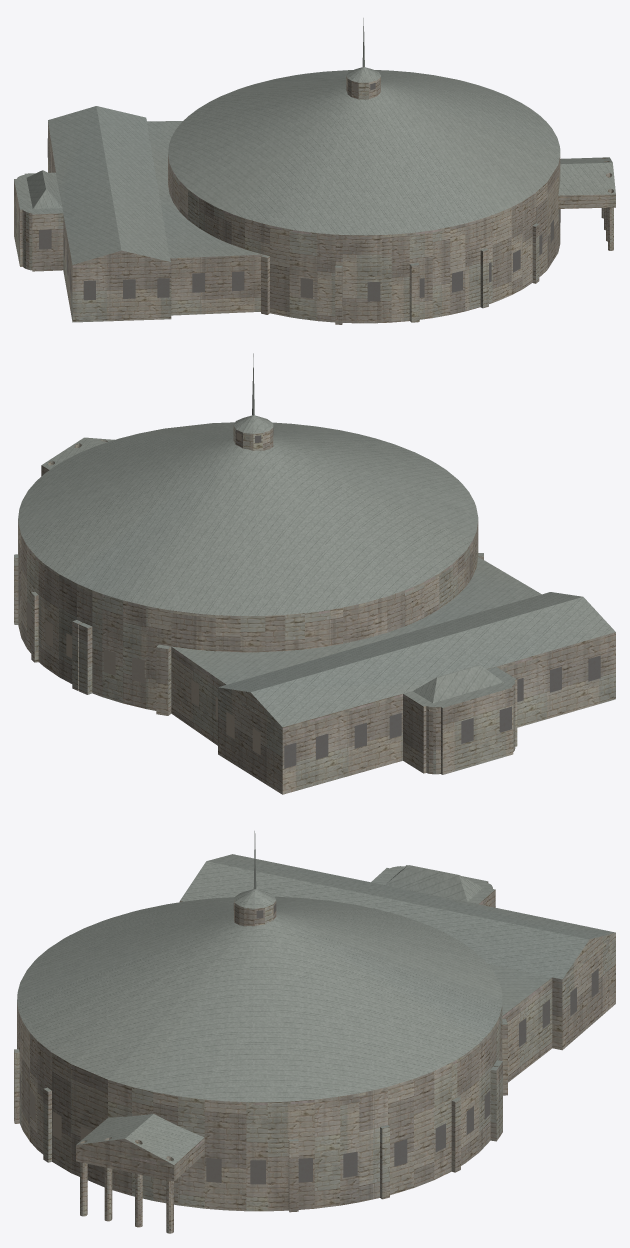
File: theatre-du-rond-point.glb
3 renders of one model, top to bottom at view 1: azimuth 30°, elevation 25°; view 2: azimuth 150°, elevation 25°; view 3: azimuth 270°, elevation 25°, orthographic. The views are drawn at different scales.
Visible parts, largest first — view 1: roof, stone, window, trim; view 2: roof, stone, window, trim; view 3: roof, stone, window, trim.
Part boxes in pixels (x1,y1,x2,y2): roof: [14, 18, 615, 267]; stone: [14, 76, 615, 324]; window: [15, 83, 560, 301]; trim: [20, 123, 610, 267]; roof: [14, 353, 615, 727]; stone: [14, 425, 615, 794]; window: [18, 427, 600, 768]; trim: [32, 464, 532, 730]; roof: [14, 831, 615, 1164]; stone: [14, 854, 615, 1233]; window: [19, 903, 598, 1184]; trim: [115, 888, 615, 1167].
Bounding box in the file's own units: 61.14 × 26 × 50.03.
Materials: 4 (4 with a texture image).
